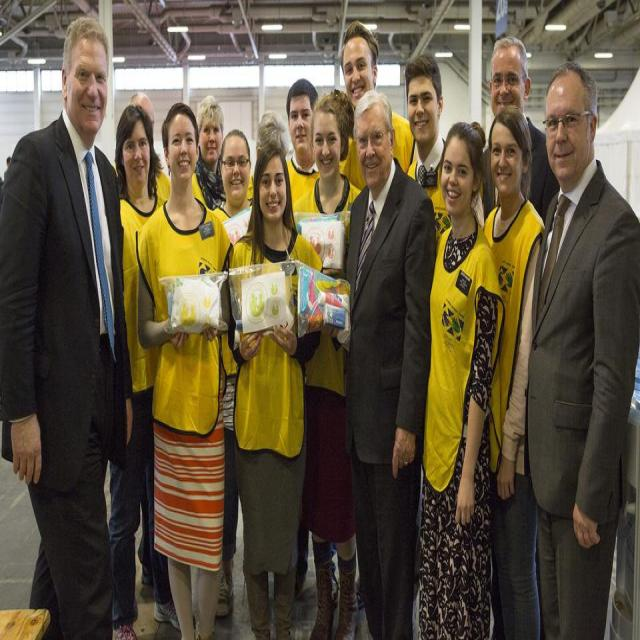body: (0, 13, 135, 639), (522, 56, 640, 639), (340, 86, 439, 640), (134, 96, 235, 639), (226, 138, 326, 638), (107, 102, 197, 639), (416, 117, 508, 639), (293, 89, 367, 640), (481, 100, 545, 640), (282, 77, 342, 609), (209, 126, 257, 618), (479, 33, 560, 231), (336, 18, 420, 192), (404, 49, 452, 248), (111, 89, 172, 205), (190, 92, 227, 210), (255, 108, 290, 160), (0, 155, 12, 198)
